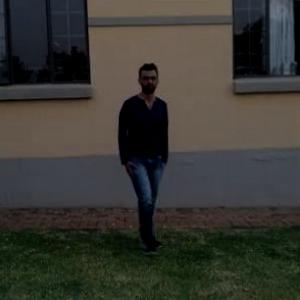follow: (118, 63, 170, 244)
